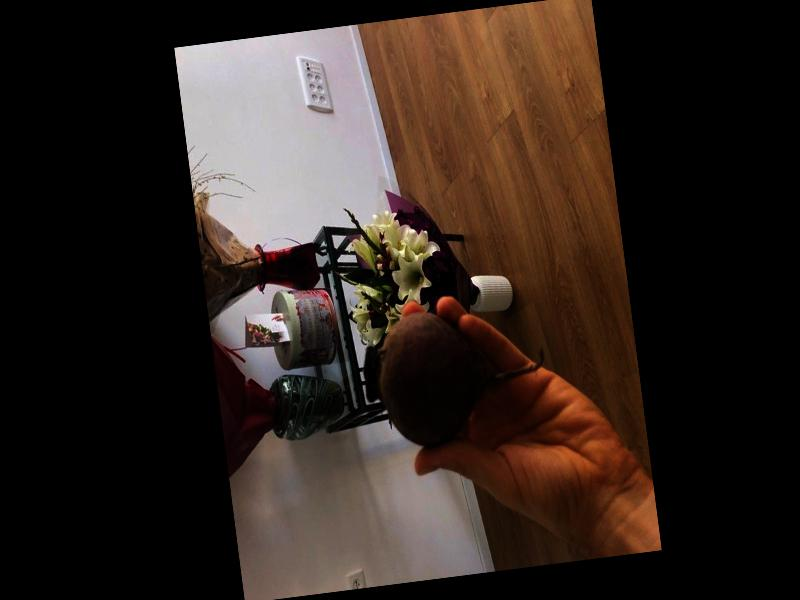Beet: (356, 296, 552, 453)
